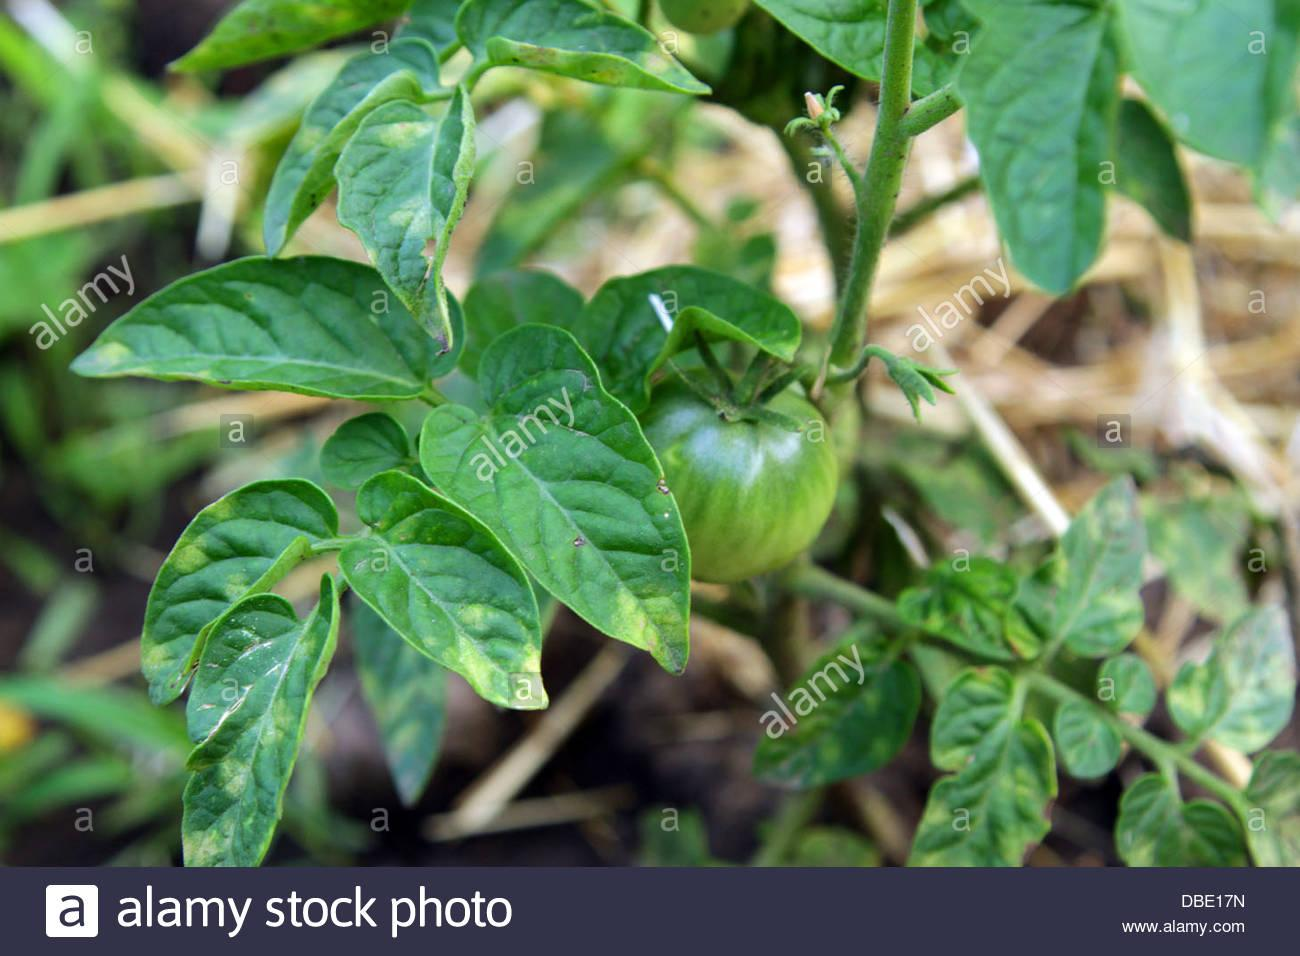Tomato leaf yellow virus: (424, 336, 698, 665), (51, 251, 480, 426), (137, 465, 332, 711), (333, 101, 488, 320), (914, 676, 1042, 875), (1012, 480, 1143, 663)
